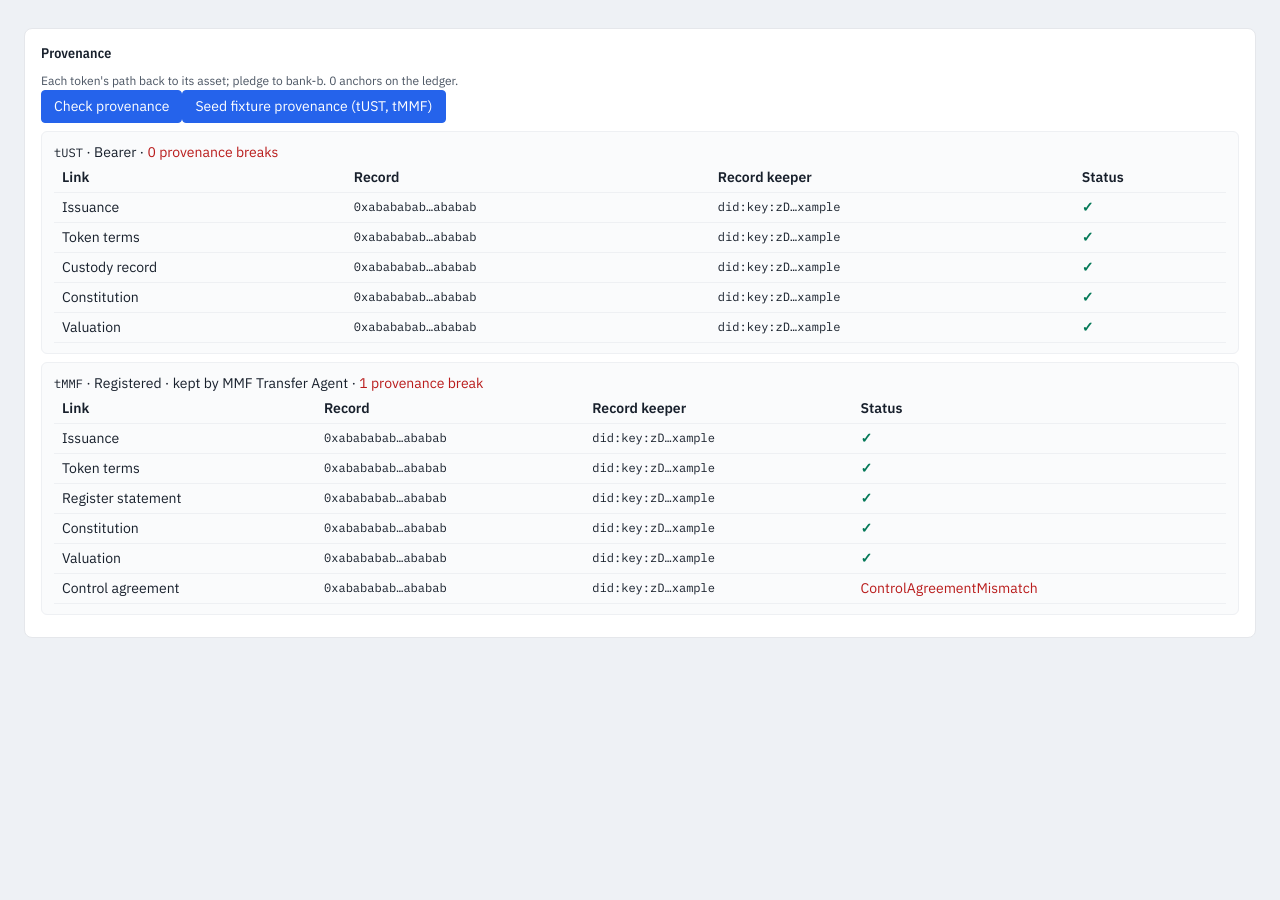
Test: ProvenanceCard › offers the fixture seed only when nothing is anchored, and checks again after it
The image size is (1280, 900).
Step 1. Click the button with test id "provenance-seed" → (314, 106), box 182,90 -> 446,123
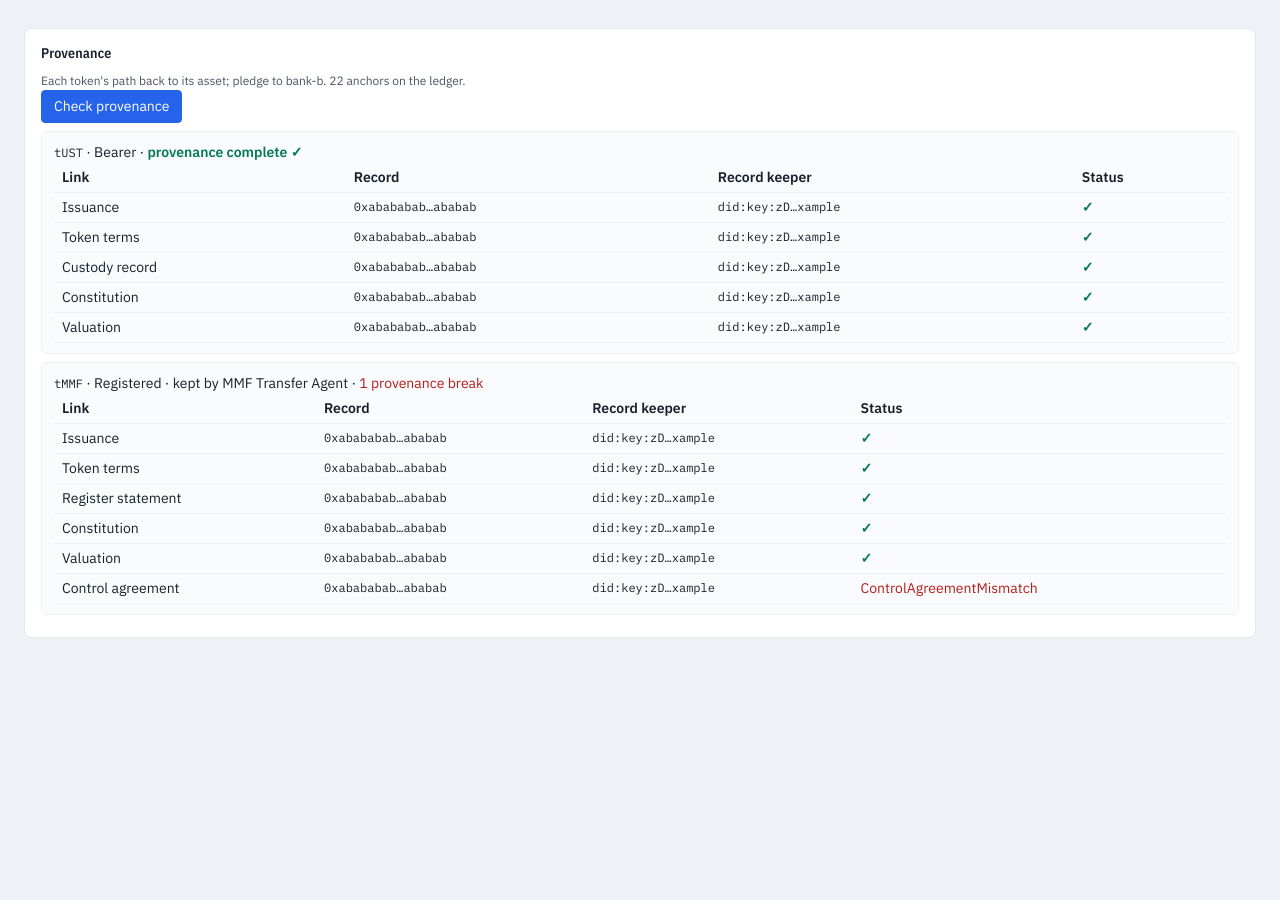
Result: the text "provenance complete ✓" is shown at 148,143 -> 302,161
